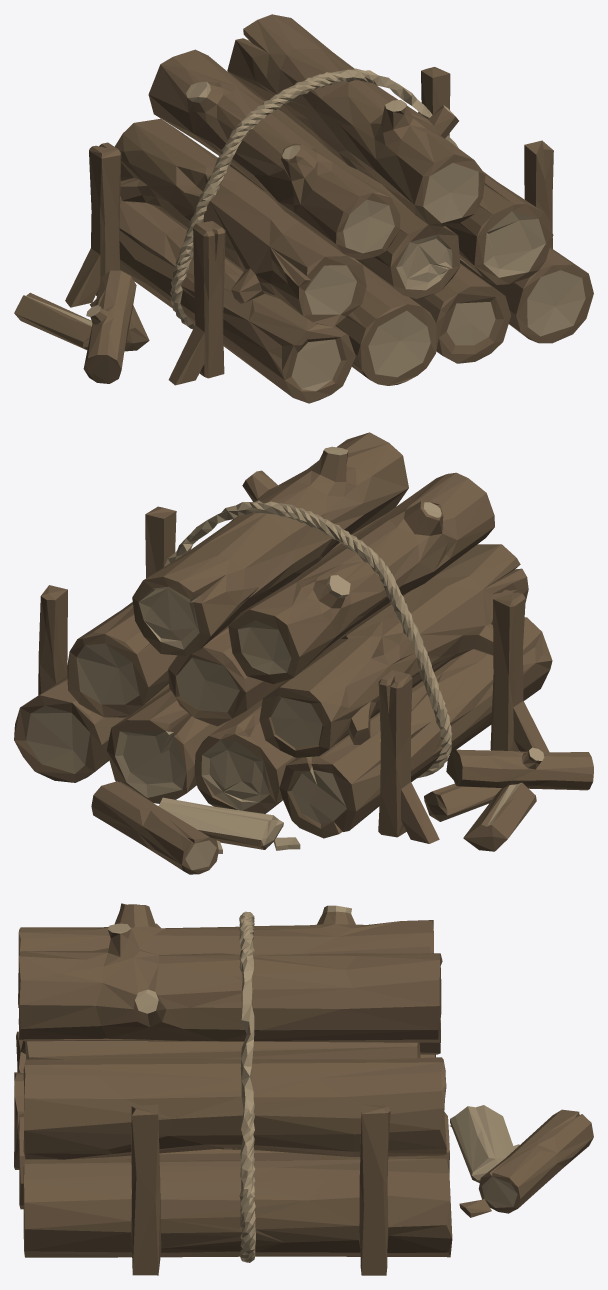
Rendered from FirewoodLogPile.fbx.
3 renders of one model, top to bottom at view 1: azimuth 30°, elevation 25°; view 2: azimuth 150°, elevation 25°; view 3: azimuth 270°, elevation 25°, orthographic. The views are drawn at different scales.
Parts seen in each view (by area): view 1: FirewoodLogPile; view 2: FirewoodLogPile; view 3: FirewoodLogPile.
Part boxes in pixels (bbox=[...]): FirewoodLogPile: bbox=[14, 14, 593, 403]; FirewoodLogPile: bbox=[14, 432, 593, 874]; FirewoodLogPile: bbox=[14, 903, 593, 1275].
Size of the model in its own units: 1.28 by 1.3 by 0.6609.
